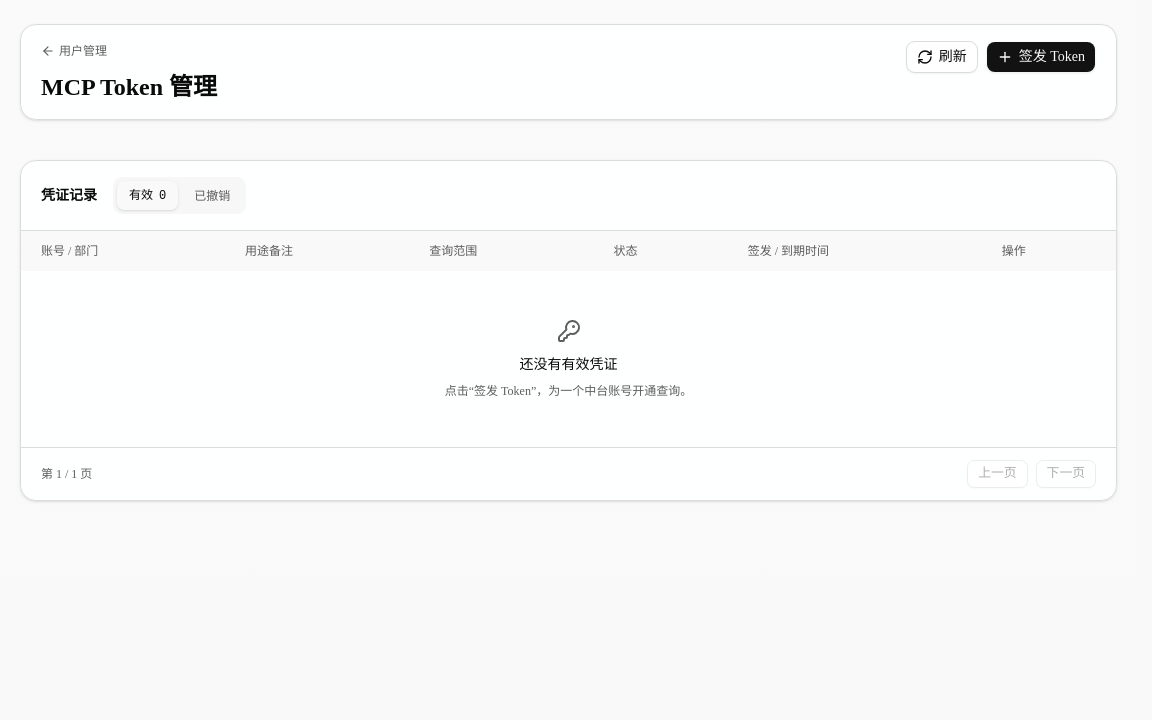
MCP token administration › limits design scope to eligible users and resets scope when changing user
This screenshot has width=1152, height=720.
Click the button "签发 Token".
click(1041, 57)  # box [986,41,1096,73]
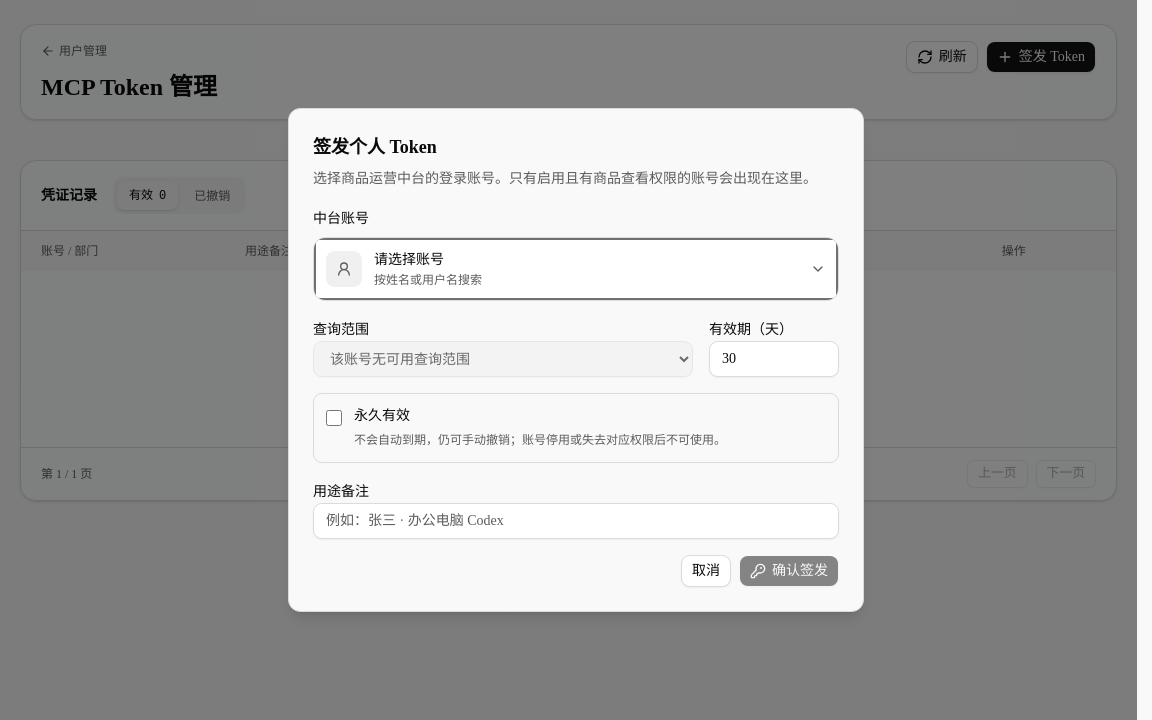
Expected: the button named "中台账号" is enabled
Click the button named "中台账号".
click(344, 269)  # box [314,238,838,300]
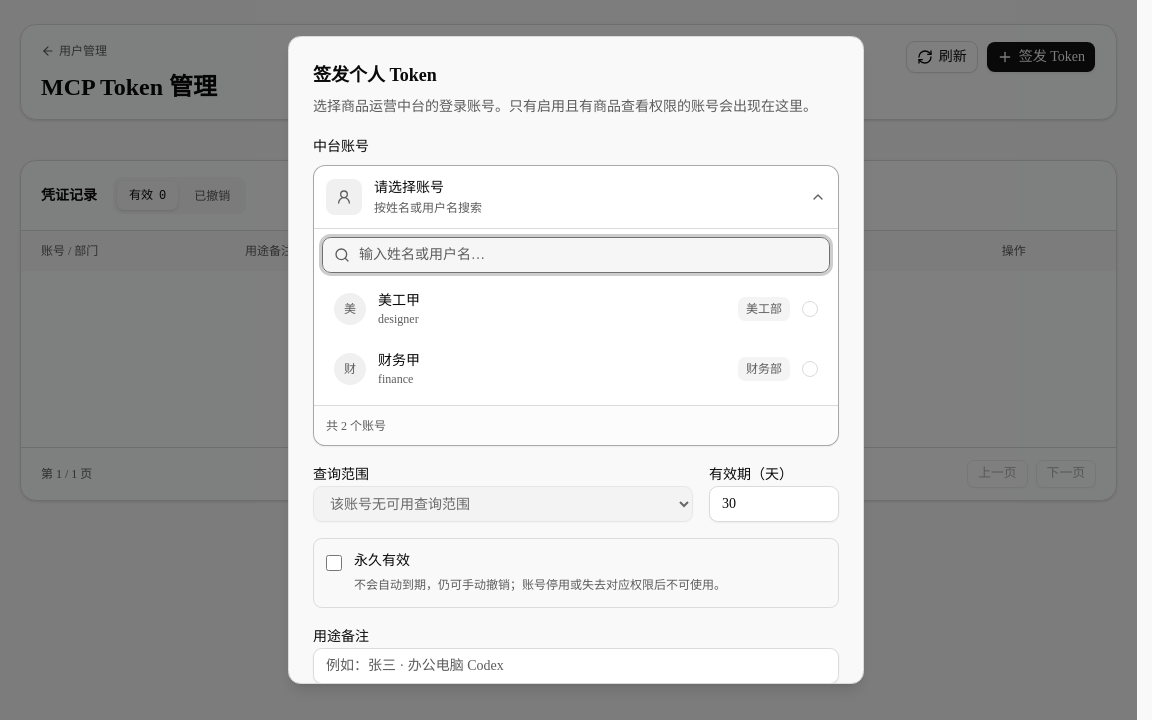
Click the radio button labelled "美 美工甲 designer 美工部".
click(350, 309)  # box [334,293,818,326]
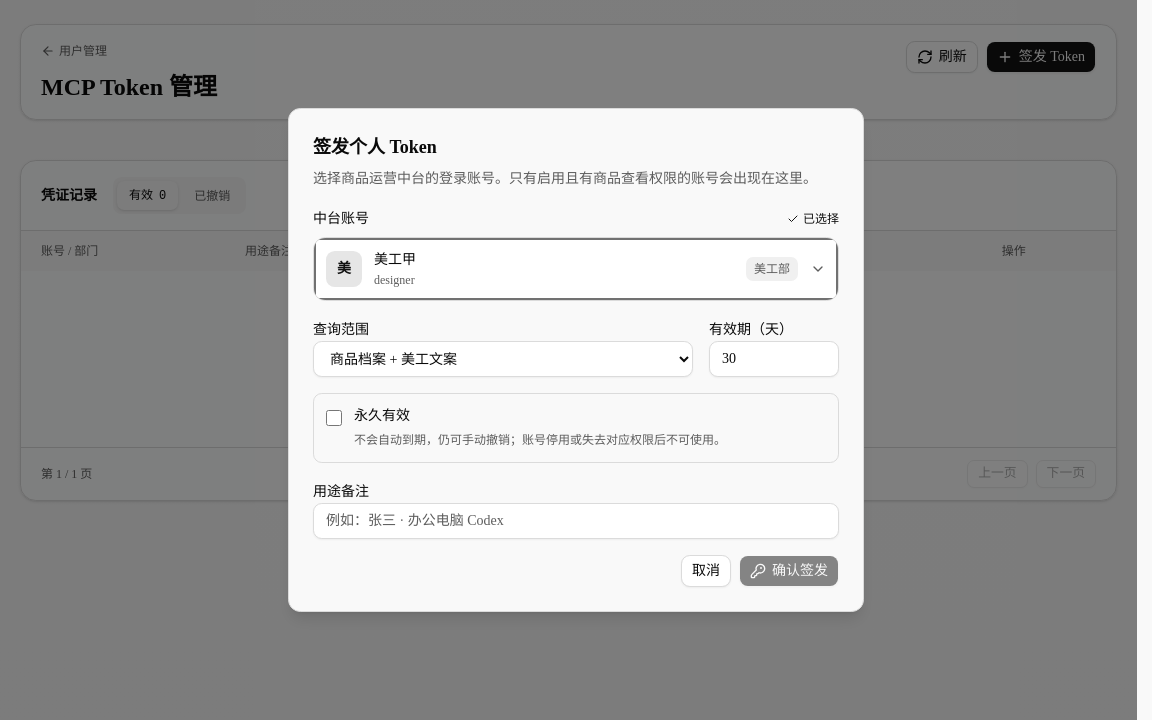
Expected: the dropdown labelled "查询范围" shows "商品档案 + 美工文案", [313,341,693,377]
Click the button named "中台账号".
click(344, 269)  # box [314,238,838,300]
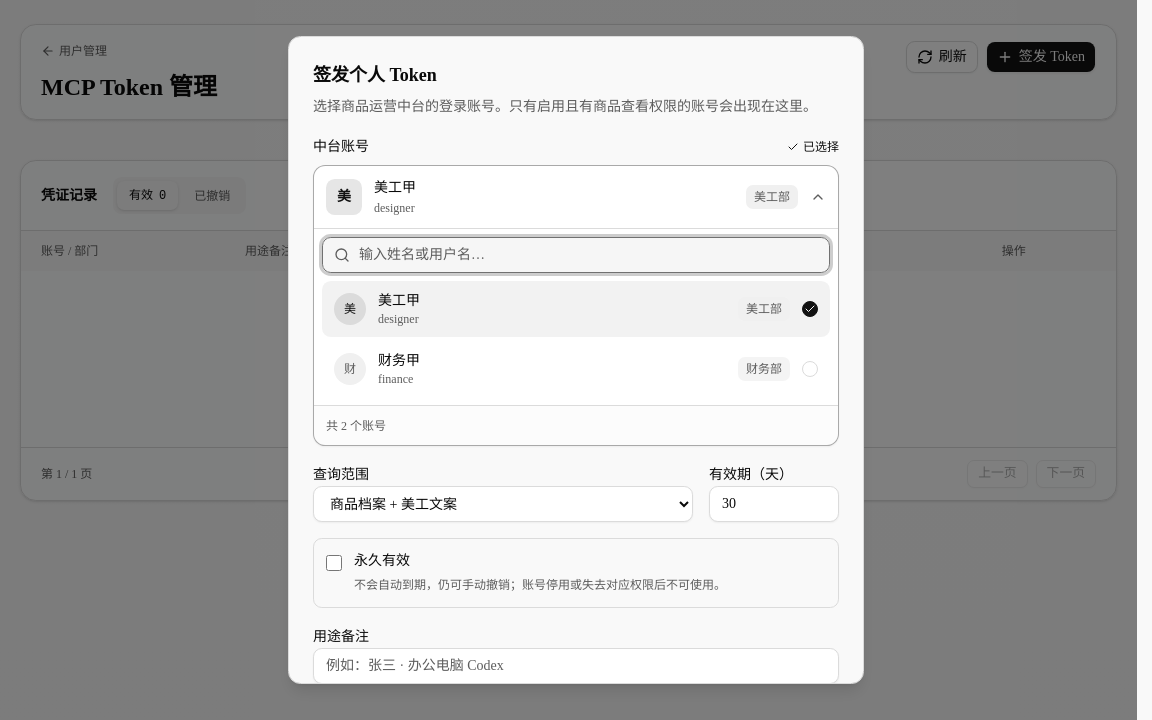
Click the radio button labelled "财 财务甲 finance 财务部".
click(350, 369)  # box [334,353,818,386]
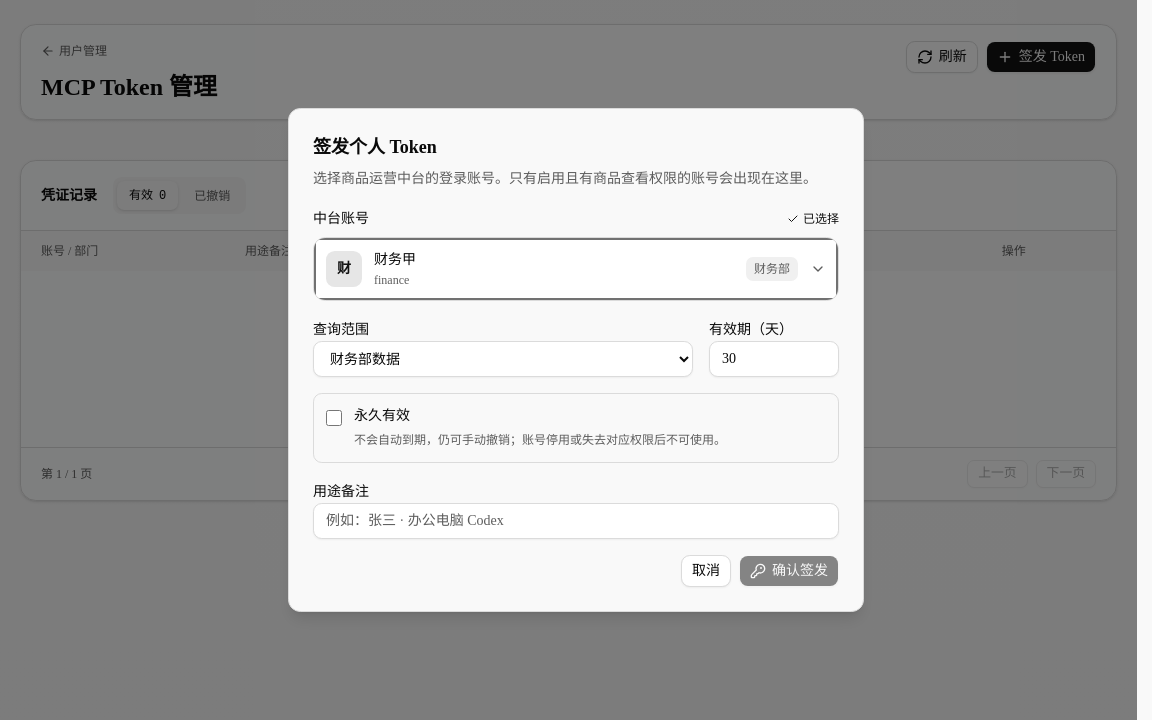
Expected: the option "商品档案 + 美工文案" is not shown
Expected: the dropdown labelled "查询范围" shows "财务部数据", [313,341,693,377]
